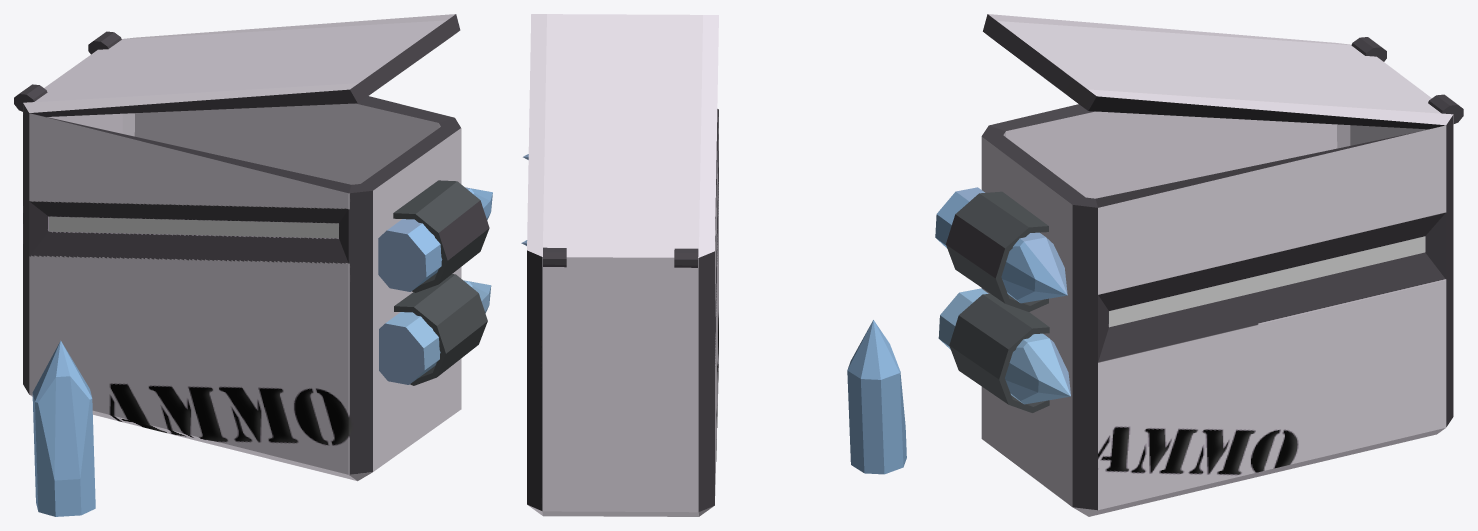
File: AmmoBox.fbx
3 renders of one model, left to right at view 1: azimuth 30°, elevation 25°; view 2: azimuth 150°, elevation 25°; view 3: azimuth 270°, elevation 25°, orthographic. The views are drawn at different scales.
Parts seen in each view (by area): view 1: bullet; view 2: bullet; view 3: bullet.
Part boxes in pixels (<box>): bullet: <box>14,14,492,516</box>; bullet: <box>521,14,906,516</box>; bullet: <box>935,14,1463,516</box>.
Size of the model in its own units: 268 by 235 by 261.
2 materials, 1 textured.
